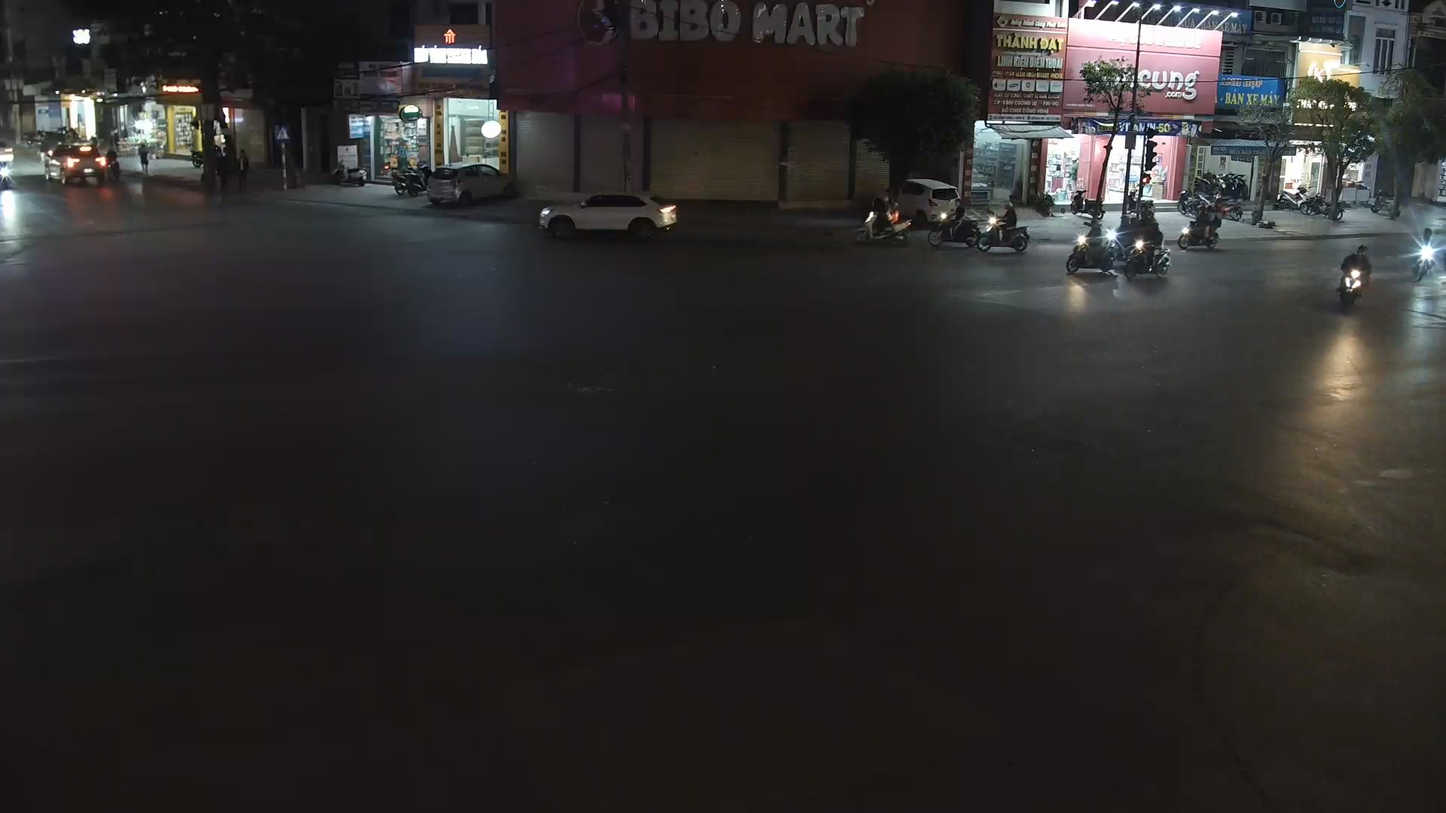car: (536, 191, 677, 243)
motorbike: (971, 198, 1033, 255), (1335, 240, 1373, 310)
